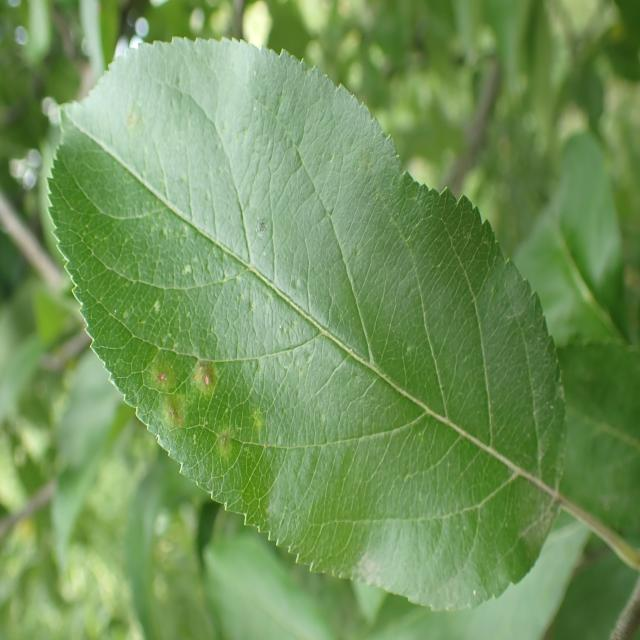scab: (82, 92, 366, 496)
